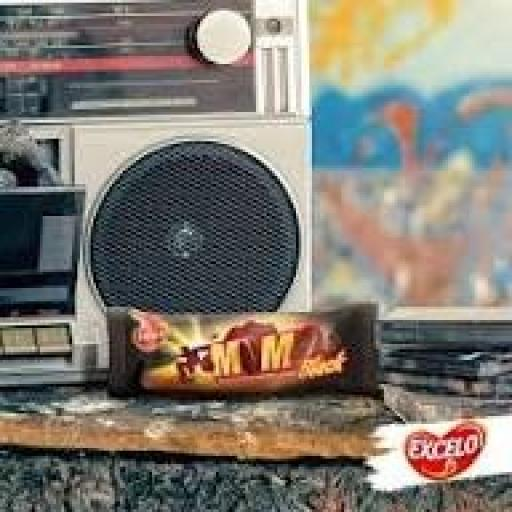MOMO: (68, 224, 410, 460)
